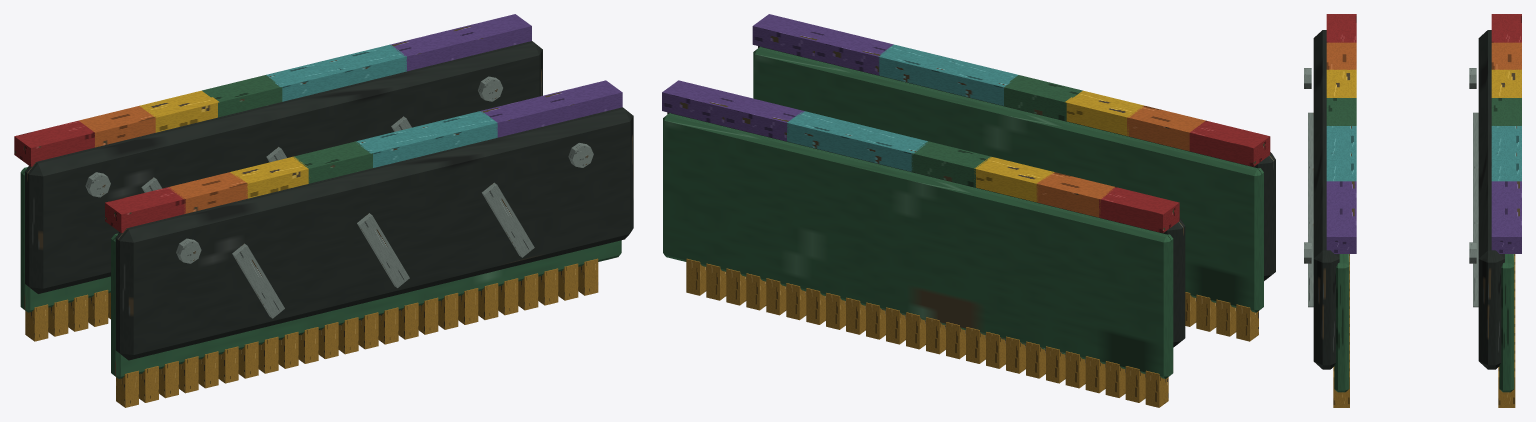
File: ram_pair.obj
The picture shows the model from 3 angles, left to right: view 1: azimuth 30°, elevation 25°; view 2: azimuth 150°, elevation 25°; view 3: azimuth 270°, elevation 25°; orthographic projection. The views are drawn at different scales.
Parts seen in each view (by area): view 1: ram_pair_MaterialGroup_01, ram_pair_MaterialGroup_02, ram_pair_MaterialGroup_00, ram_pair_MaterialGroup_07, ram_pair_MaterialGroup_06, ram_pair_MaterialGroup_08, ram_pair_MaterialGroup_03, ram_pair_MaterialGroup_05, ram_pair_MaterialGroup_04; view 2: ram_pair_MaterialGroup_00, ram_pair_MaterialGroup_02, ram_pair_MaterialGroup_07, ram_pair_MaterialGroup_06, ram_pair_MaterialGroup_03, ram_pair_MaterialGroup_04, ram_pair_MaterialGroup_05, ram_pair_MaterialGroup_01; view 3: ram_pair_MaterialGroup_01, ram_pair_MaterialGroup_00, ram_pair_MaterialGroup_07, ram_pair_MaterialGroup_06, ram_pair_MaterialGroup_08, ram_pair_MaterialGroup_03, ram_pair_MaterialGroup_05, ram_pair_MaterialGroup_04, ram_pair_MaterialGroup_02.
Part boxes in pixels (x1=…): ram_pair_MaterialGroup_01: x1=25, y1=41, x2=633, y2=360; ram_pair_MaterialGroup_02: x1=25, y1=258, x2=598, y2=407; ram_pair_MaterialGroup_00: x1=20, y1=75, x2=621, y2=378; ram_pair_MaterialGroup_07: x1=390, y1=14, x2=622, y2=137; ram_pair_MaterialGroup_06: x1=266, y1=44, x2=497, y2=167; ram_pair_MaterialGroup_08: x1=85, y1=76, x2=593, y2=318; ram_pair_MaterialGroup_03: x1=14, y1=120, x2=185, y2=233; ram_pair_MaterialGroup_05: x1=139, y1=90, x2=308, y2=198; ram_pair_MaterialGroup_04: x1=79, y1=106, x2=247, y2=213; ram_pair_MaterialGroup_00: x1=663, y1=46, x2=1263, y2=378; ram_pair_MaterialGroup_02: x1=686, y1=258, x2=1258, y2=407; ram_pair_MaterialGroup_07: x1=662, y1=14, x2=893, y2=141; ram_pair_MaterialGroup_06: x1=787, y1=44, x2=1017, y2=171; ram_pair_MaterialGroup_03: x1=1099, y1=120, x2=1270, y2=232; ram_pair_MaterialGroup_04: x1=1036, y1=105, x2=1205, y2=217; ram_pair_MaterialGroup_05: x1=974, y1=90, x2=1143, y2=202; ram_pair_MaterialGroup_01: x1=667, y1=46, x2=1275, y2=347; ram_pair_MaterialGroup_01: x1=1313, y1=30, x2=1504, y2=369; ram_pair_MaterialGroup_00: x1=1326, y1=98, x2=1521, y2=392; ram_pair_MaterialGroup_07: x1=1326, y1=181, x2=1521, y2=253; ram_pair_MaterialGroup_06: x1=1326, y1=126, x2=1521, y2=181; ram_pair_MaterialGroup_08: x1=1304, y1=68, x2=1478, y2=307; ram_pair_MaterialGroup_03: x1=1326, y1=14, x2=1521, y2=42; ram_pair_MaterialGroup_05: x1=1326, y1=69, x2=1521, y2=97; ram_pair_MaterialGroup_04: x1=1326, y1=42, x2=1521, y2=69; ram_pair_MaterialGroup_02: x1=1333, y1=254, x2=1515, y2=407.
Bounding box in the file's own units: 0.144 × 0.053 × 0.058.
Materials: 9 (9 with a texture image).
